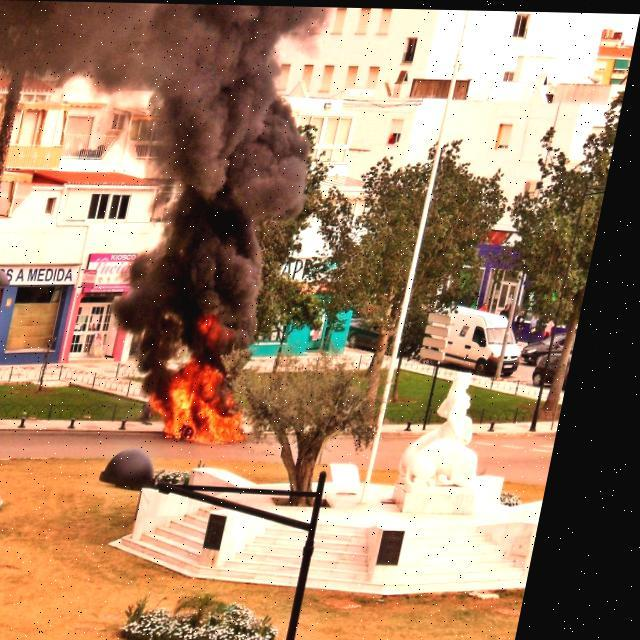Fire: (156, 316, 286, 444)
